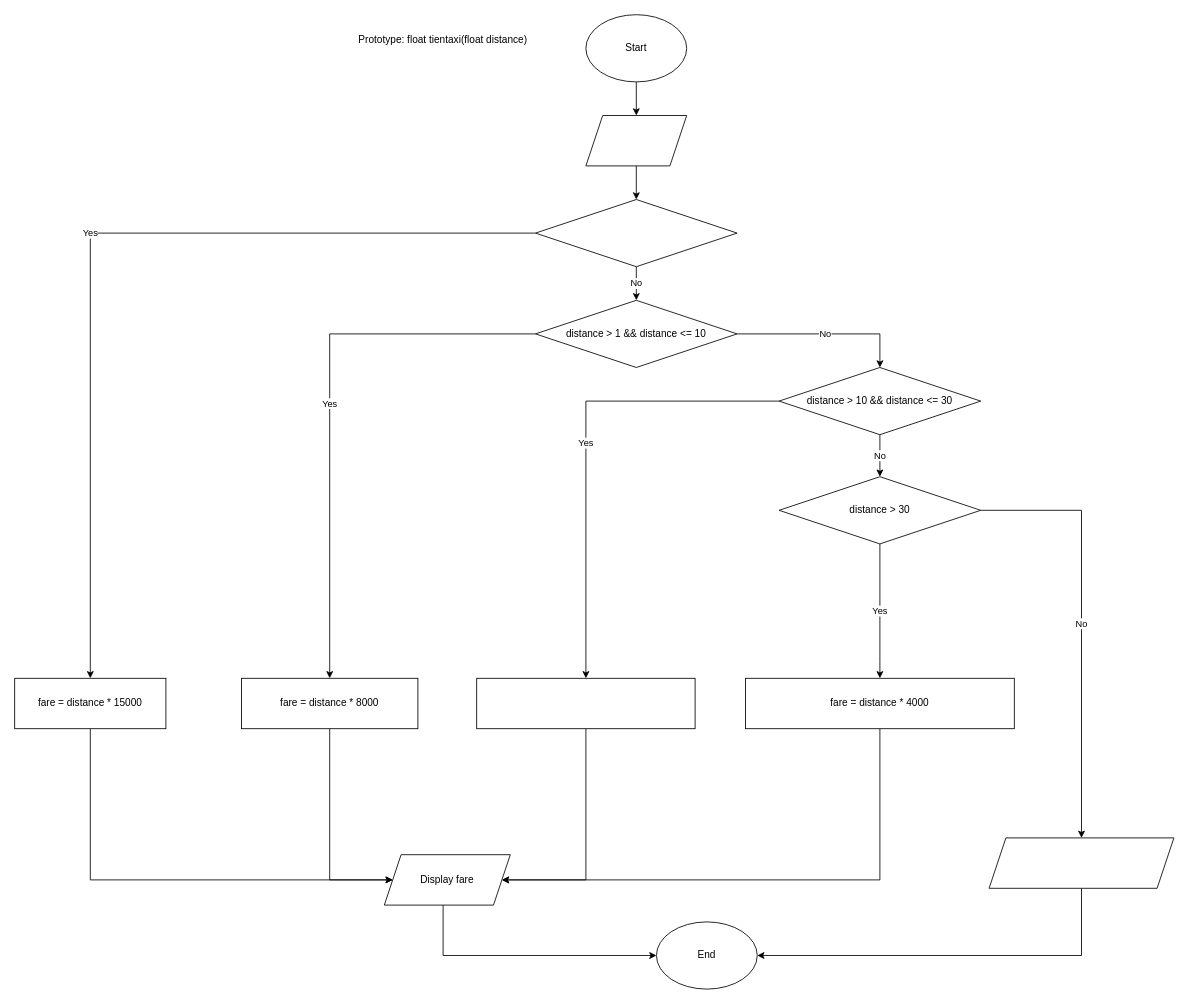
The diagram is 1189 pixels wide and 1004 high, and some of its shapes have lost their labels. Here are the shapes that lost their labels. From the top down, the centre of each, then its label:
pixel 636 140: Input distance
pixel 636 233: distance <= 1
pixel 585 703: fare = distance * 6000
pixel 1081 862: Display Quãng đường không hợp lệ
